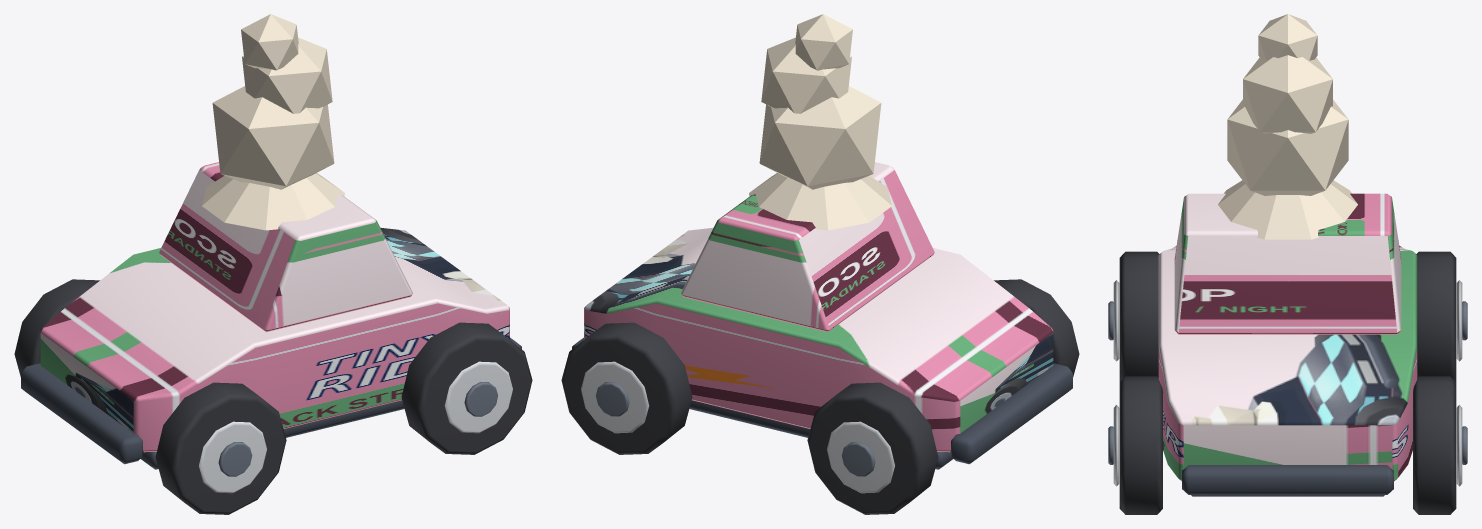
3 renders of one model, left to right at view 1: azimuth 30°, elevation 25°; view 2: azimuth 150°, elevation 25°; view 3: azimuth 270°, elevation 25°, orthographic. The views are drawn at different scales.
Visible parts, largest first — view 1: SS-01_connected_shell, SS-01_cabin, Tire, Tire.002, ice cream swirl 1, ice cream base, front bumper, ice cream swirl 2, Rim.002, Rim, ice cream swirl 3, Tire.001 (+3 smaller); view 2: SS-01_connected_shell, SS-01_cabin, Tire.001, Tire.003, ice cream swirl 1, ice cream base, front bumper, ice cream swirl 2, Rim.003, Rim.001, ice cream swirl 3, Tire (+3 smaller); view 3: SS-01_connected_shell, SS-01_cabin, ice cream swirl 1, rear bumper, Tire.002, Tire.003, ice cream swirl 2, ice cream base, Tire, Tire.001, ice cream swirl 3, Rim.002 (+3 smaller).
Part boxes in pixels (x1,y1,x2,y2): SS-01_connected_shell: (40, 227, 509, 452); SS-01_cabin: (159, 162, 412, 332); Tire: (155, 382, 286, 514); Tire.002: (401, 322, 532, 454); ice cream swirl 1: (212, 86, 334, 189); ice cream base: (202, 173, 344, 230); front bumper: (21, 363, 143, 464); ice cream swirl 2: (242, 37, 332, 113); Rim.002: (444, 361, 512, 433); Rim: (199, 421, 266, 493); ice cream swirl 3: (241, 14, 298, 70); Tire.001: (14, 279, 99, 376); SS-01_connected_shell: (584, 227, 1053, 452); SS-01_cabin: (681, 162, 934, 332); Tire.001: (807, 382, 938, 514); Tire.003: (561, 322, 692, 454); ice cream swirl 1: (759, 86, 881, 189); ice cream base: (749, 173, 891, 230); front bumper: (950, 363, 1072, 464); ice cream swirl 2: (761, 37, 851, 113); Rim.003: (581, 361, 649, 433); Rim.001: (827, 421, 894, 493); ice cream swirl 3: (795, 14, 852, 70); Tire: (994, 279, 1079, 376); SS-01_connected_shell: (1158, 246, 1417, 481); SS-01_cabin: (1174, 193, 1401, 334); ice cream swirl 1: (1227, 99, 1348, 195); rear bumper: (1182, 465, 1393, 494); Tire.002: (1119, 376, 1162, 514); Tire.003: (1413, 376, 1456, 514); ice cream swirl 2: (1243, 55, 1332, 133); ice cream base: (1218, 180, 1357, 239); Tire: (1119, 251, 1159, 381); Tire.001: (1416, 251, 1456, 381); ice cream swirl 3: (1258, 14, 1317, 60); Rim.002: (1113, 405, 1119, 486).
Size of the model in its own units: 293 by 287 by 217.
